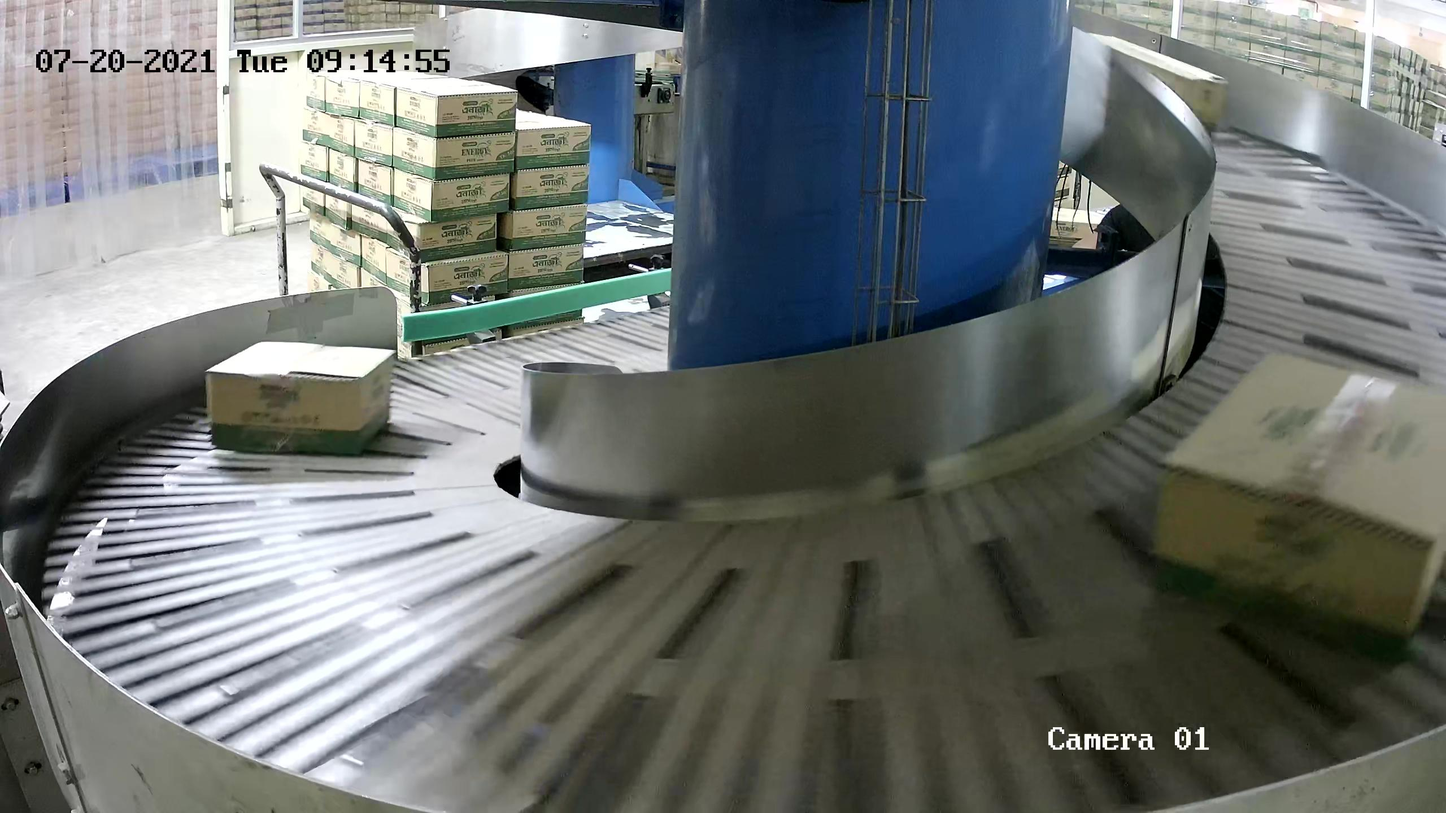Box: (1143, 347, 1446, 671), (203, 339, 398, 458)
